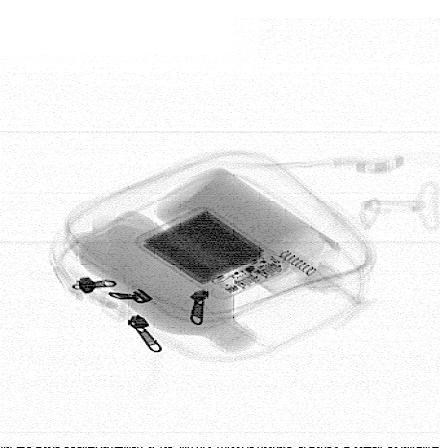Powerbank: (133, 206, 289, 301)
